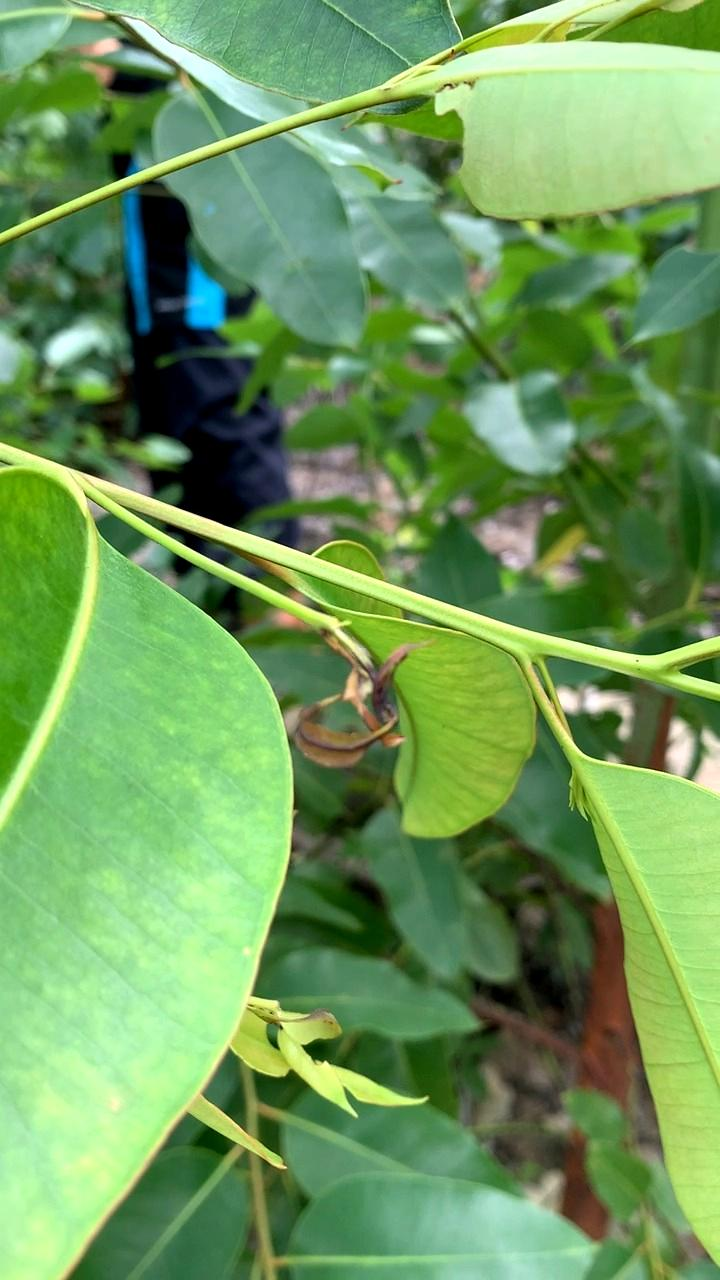Helopeltis-Withered Sprout: (293, 633, 429, 787)
